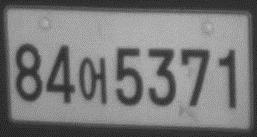1: (217, 46, 239, 111)
3: (148, 48, 177, 107)
4: (46, 45, 76, 103)
5: (115, 47, 144, 106)
7: (180, 48, 211, 106)
8: (14, 42, 41, 101)
어: (79, 56, 108, 105)
